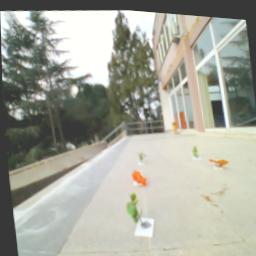herb: (123, 189, 144, 224), (136, 148, 147, 161), (190, 141, 199, 155)
wild: (206, 152, 231, 166), (131, 166, 148, 185)
